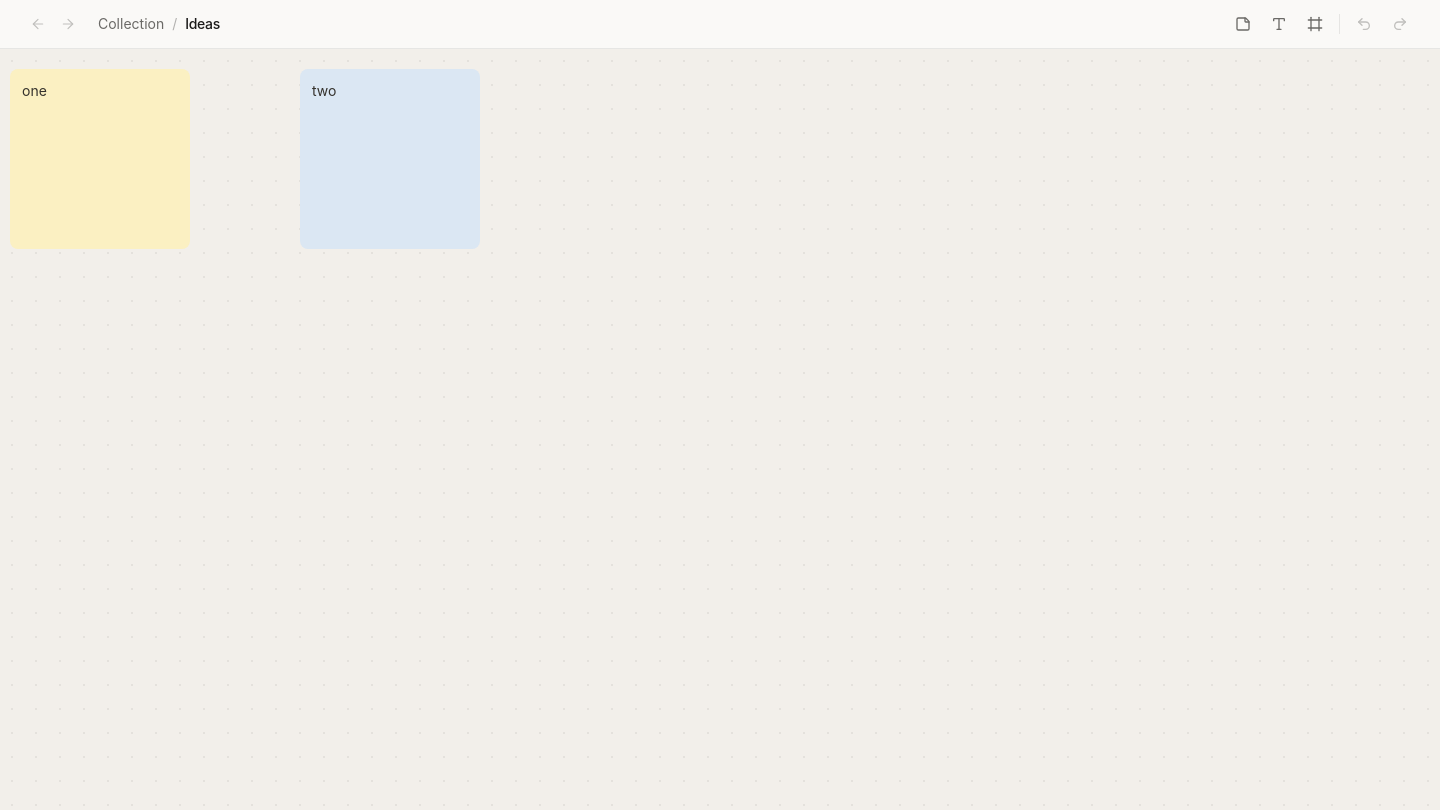
Test: WhiteboardPage › Cmd+Z after delete restores the removed item
The width and height of the screenshot is (1440, 810).
Press the mouse on the element with test id "whiteboard-item-s1" at coordinates (100, 159), box [10,69,190,249]
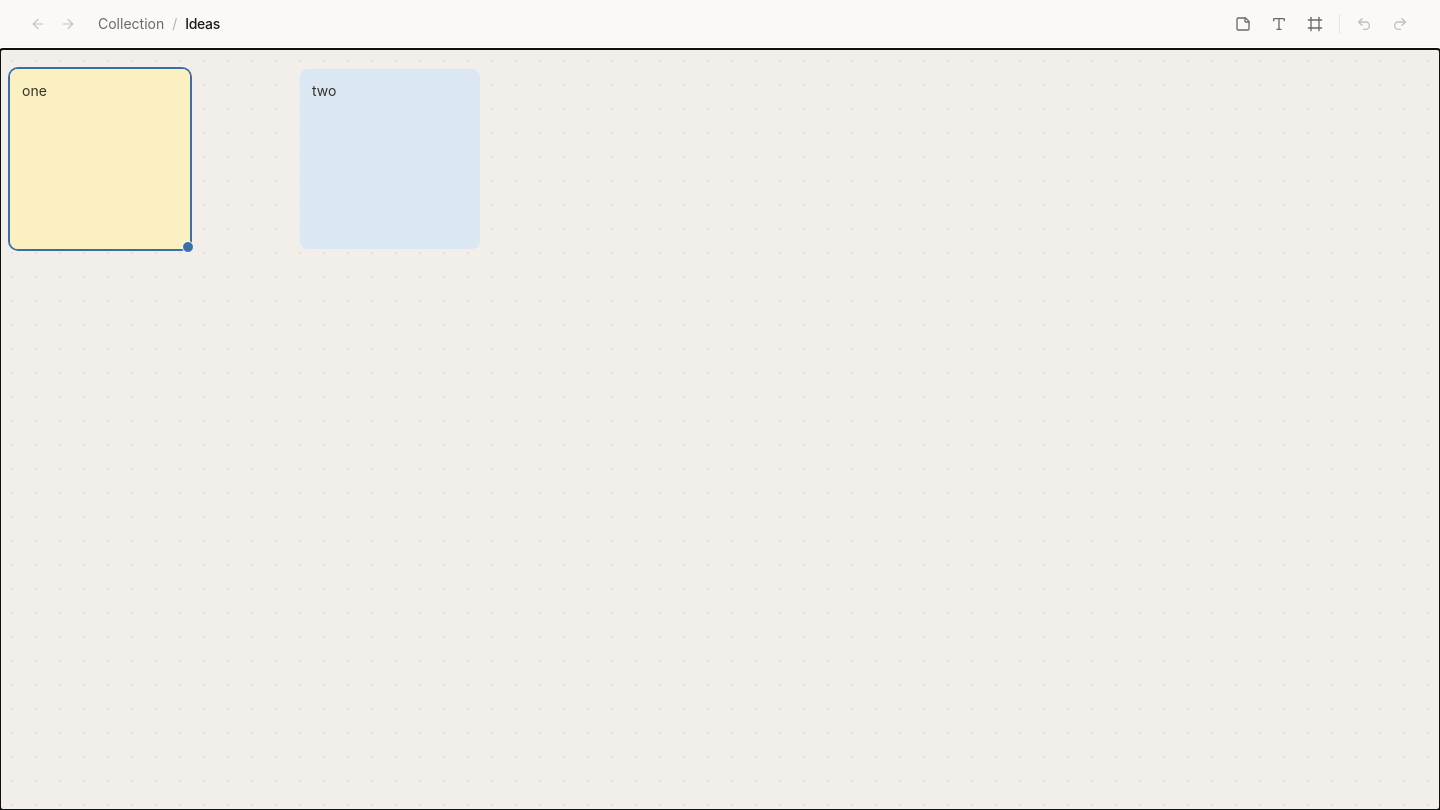
Press Delete
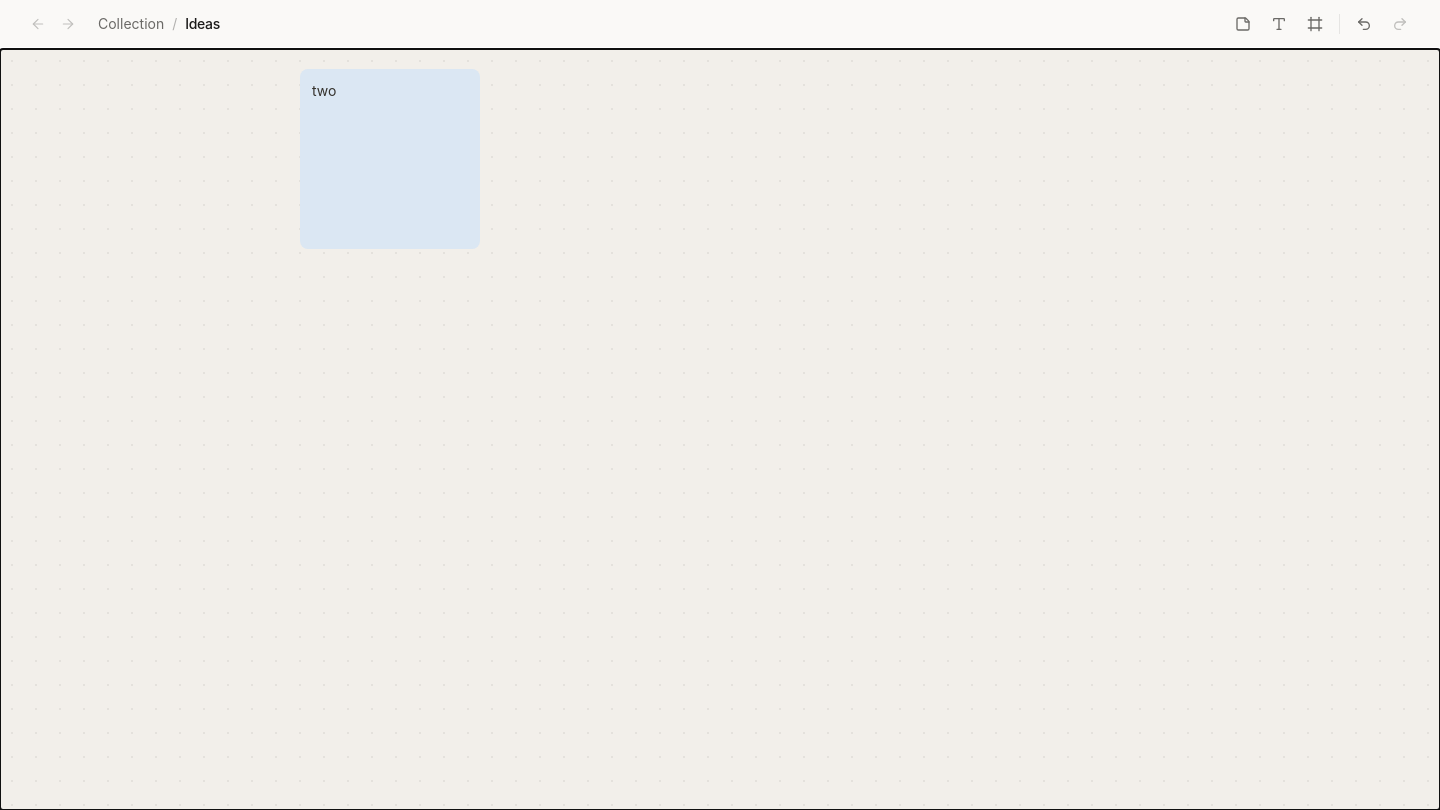
Press z
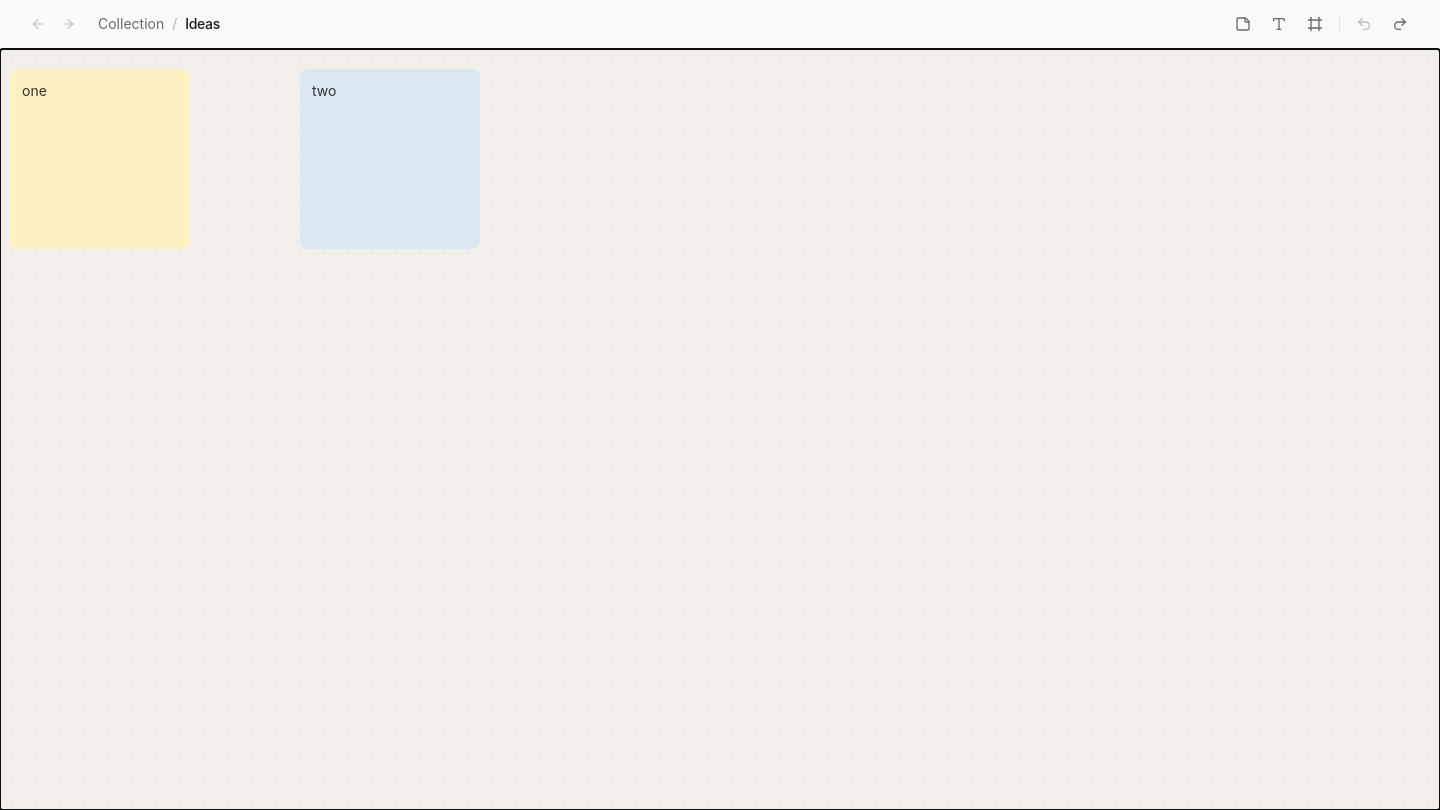
Now the element with test id "whiteboard-item-s1" is shown, box [10,69,190,249]
